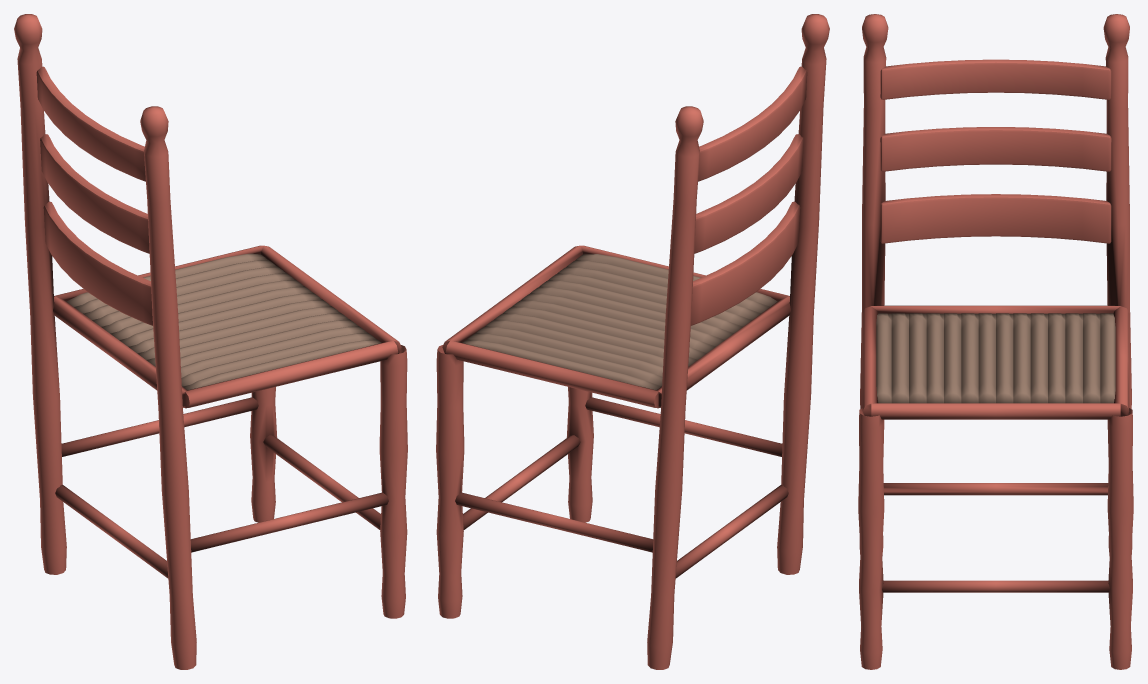
File: nd_chair.glb
The picture shows the model from 3 angles, left to right: view 1: azimuth 30°, elevation 25°; view 2: azimuth 150°, elevation 25°; view 3: azimuth 270°, elevation 25°; orthographic projection. The views are drawn at different scales.
Visible parts, largest first — view 1: PART; view 2: PART; view 3: PART.
Part boxes in pixels (box(x1,y1,x2,y2)): PART: box(14, 14, 407, 669); PART: box(436, 14, 829, 669); PART: box(858, 14, 1133, 669).
Size of the model in its own units: 0.4674 by 0.9559 by 0.4418.
